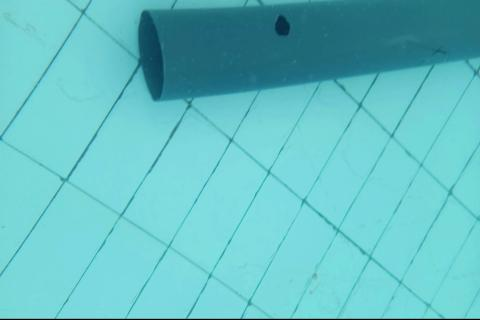kebocoran: (273, 14, 291, 37)
keretakan: (404, 39, 448, 59)
